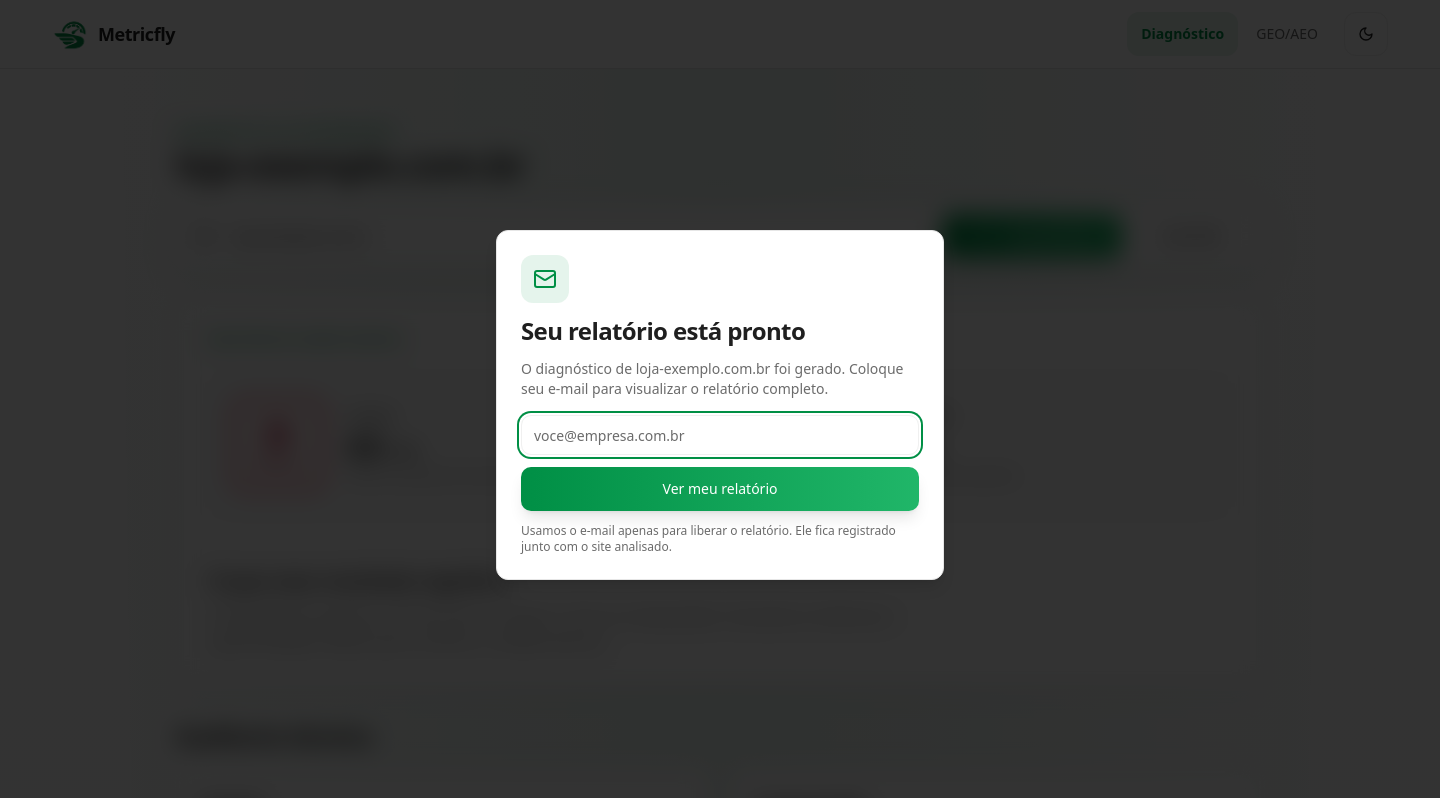
report e-mail gate › releases the report, records the e-mail with the site
Type "  Visitante@Exemplo.com.br " into the field named "Seu e-mail". click: (720, 435)
box: [521, 415, 919, 455]
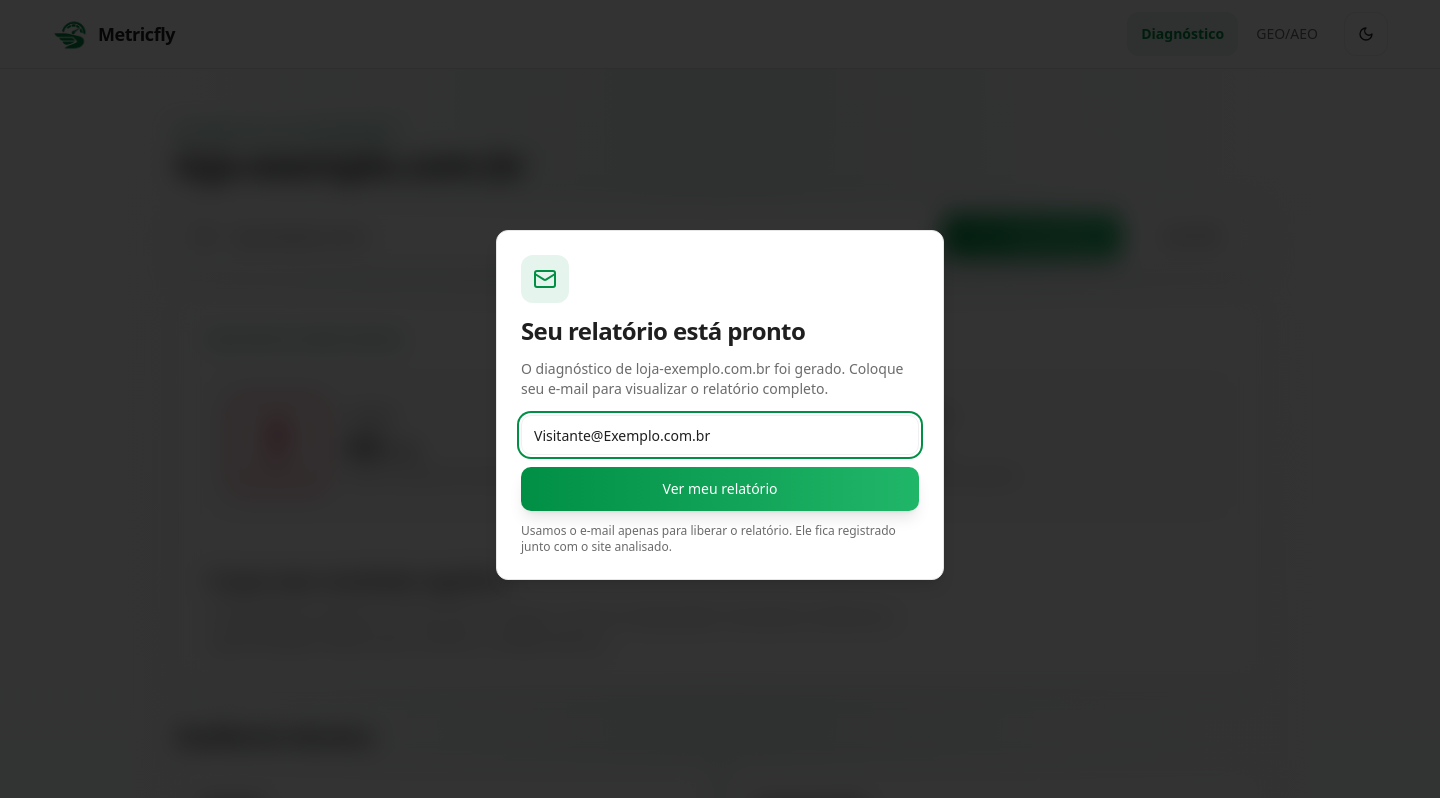
Click the button "Ver meu relatório". click: (720, 489)
box: [521, 467, 919, 511]
(page scrolled)
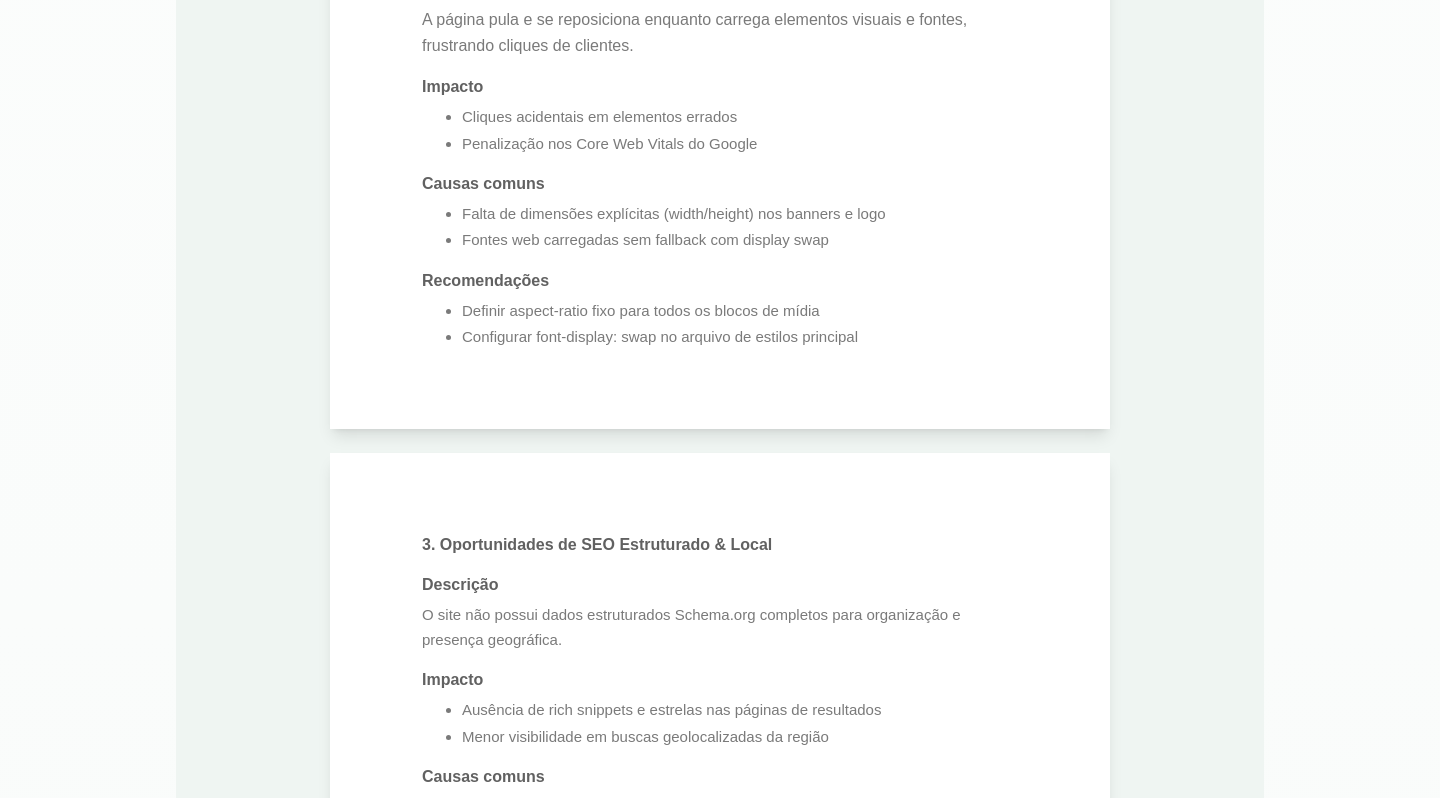
Now the dialog is gone
